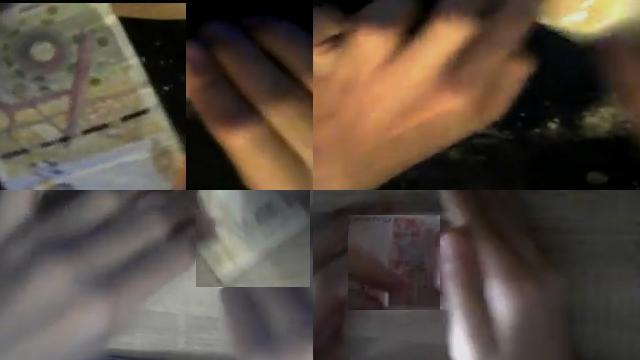10leva: (0, 3, 186, 190), (198, 190, 310, 287)
5leva: (356, 212, 448, 311), (348, 215, 440, 310)
